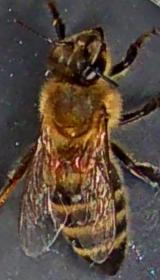varroa_mite: (70, 147, 94, 176), (46, 148, 64, 178)
